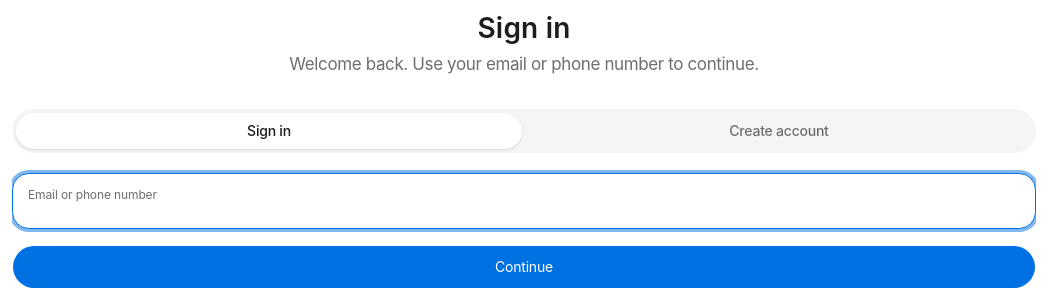
Test: SignInFlow: the first step › shows the country picker, on Mongolia, as soon as digits are typed
This screenshot has width=1048, height=305.
Type "80172121" into the field labelled "Email or phone number" at (524, 201), box [12, 173, 1036, 229]
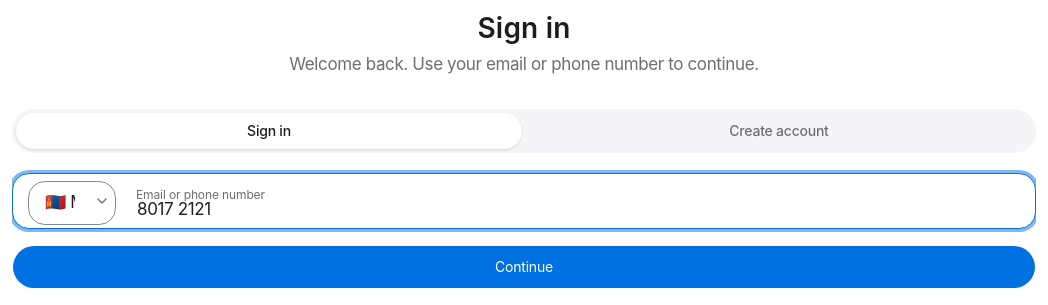
Result: the dropdown named "Country" shows "🇲🇳 MN +976" at [28, 181, 116, 225]
